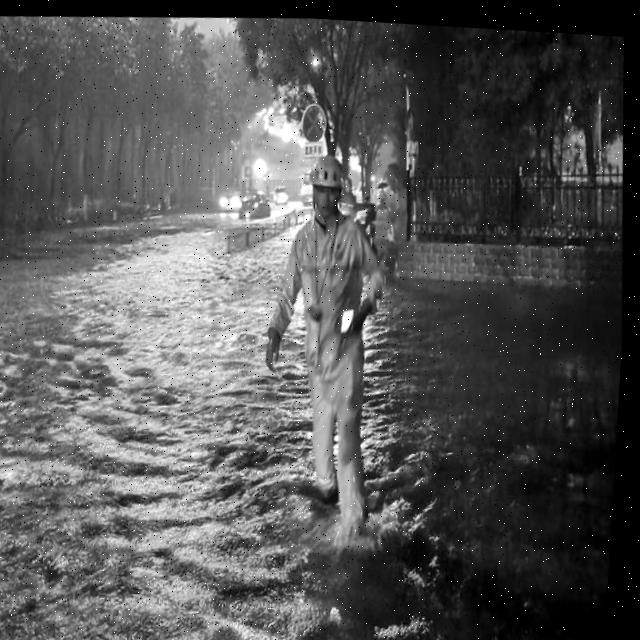rescuer: (238, 140, 410, 556)
